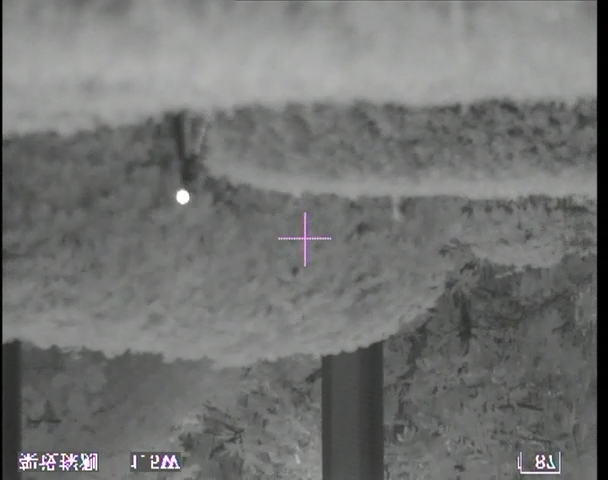my: (174, 188, 190, 205)
